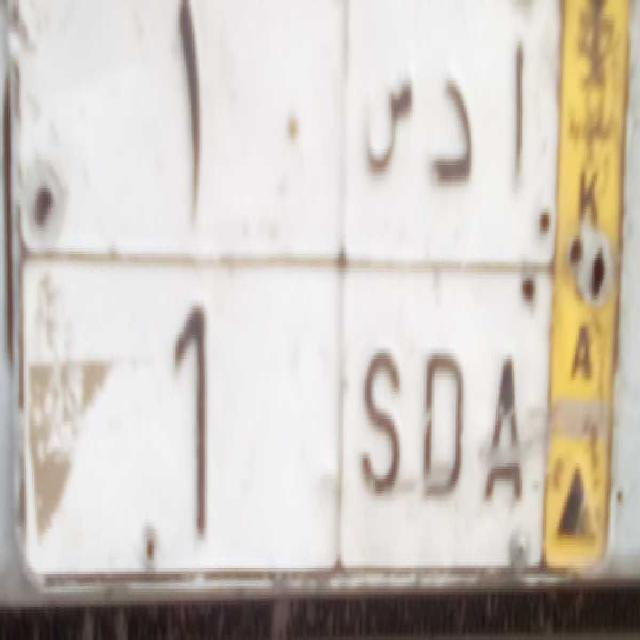license_plate: (11, 248, 552, 598)
